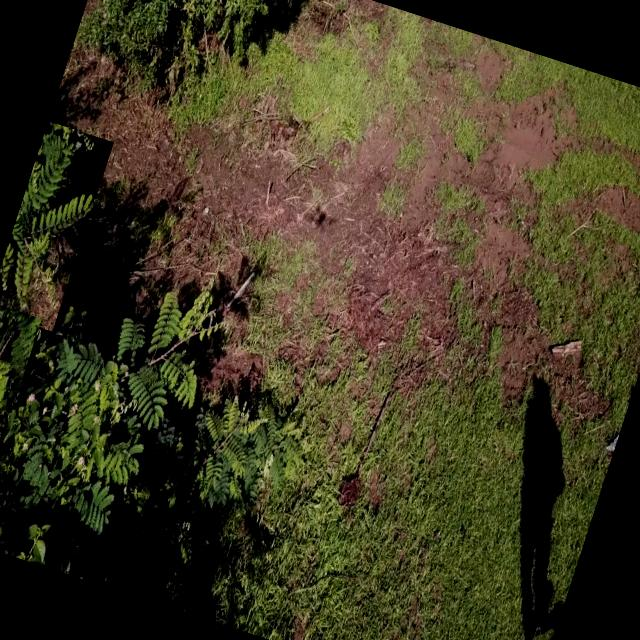Mysore-Thorn-Weed: (0, 229, 243, 539), (0, 121, 113, 332), (172, 378, 304, 540), (0, 302, 42, 434)
